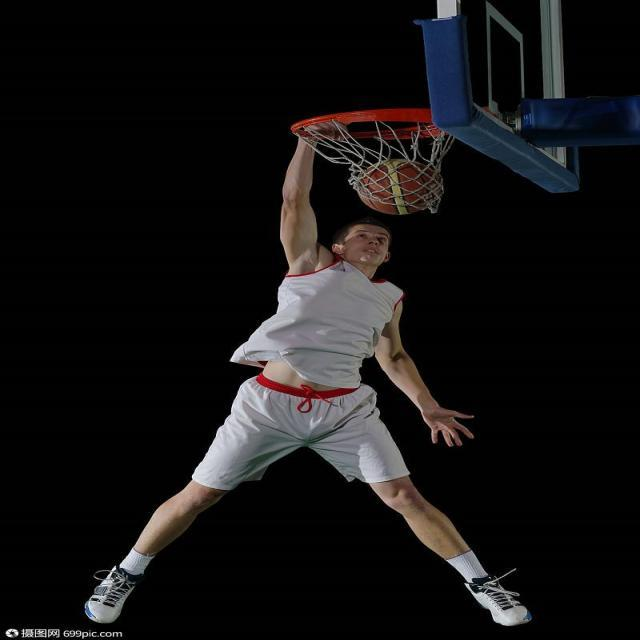rim: (354, 162, 441, 214)
